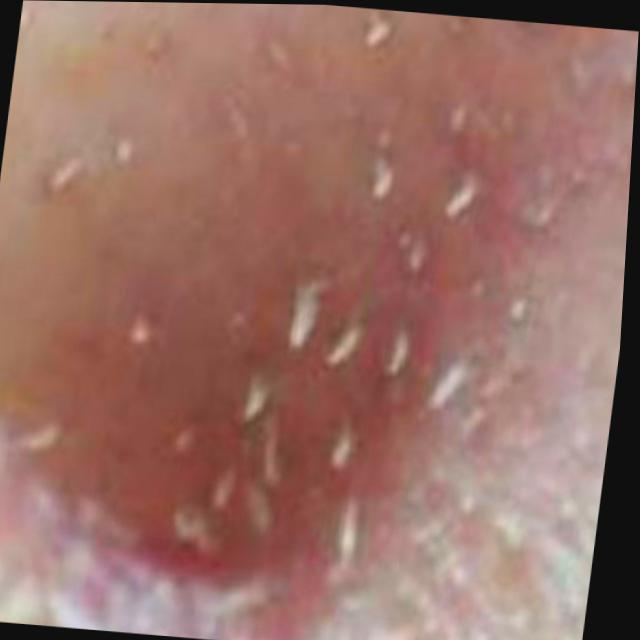whitehead: (75, 2, 639, 634)
